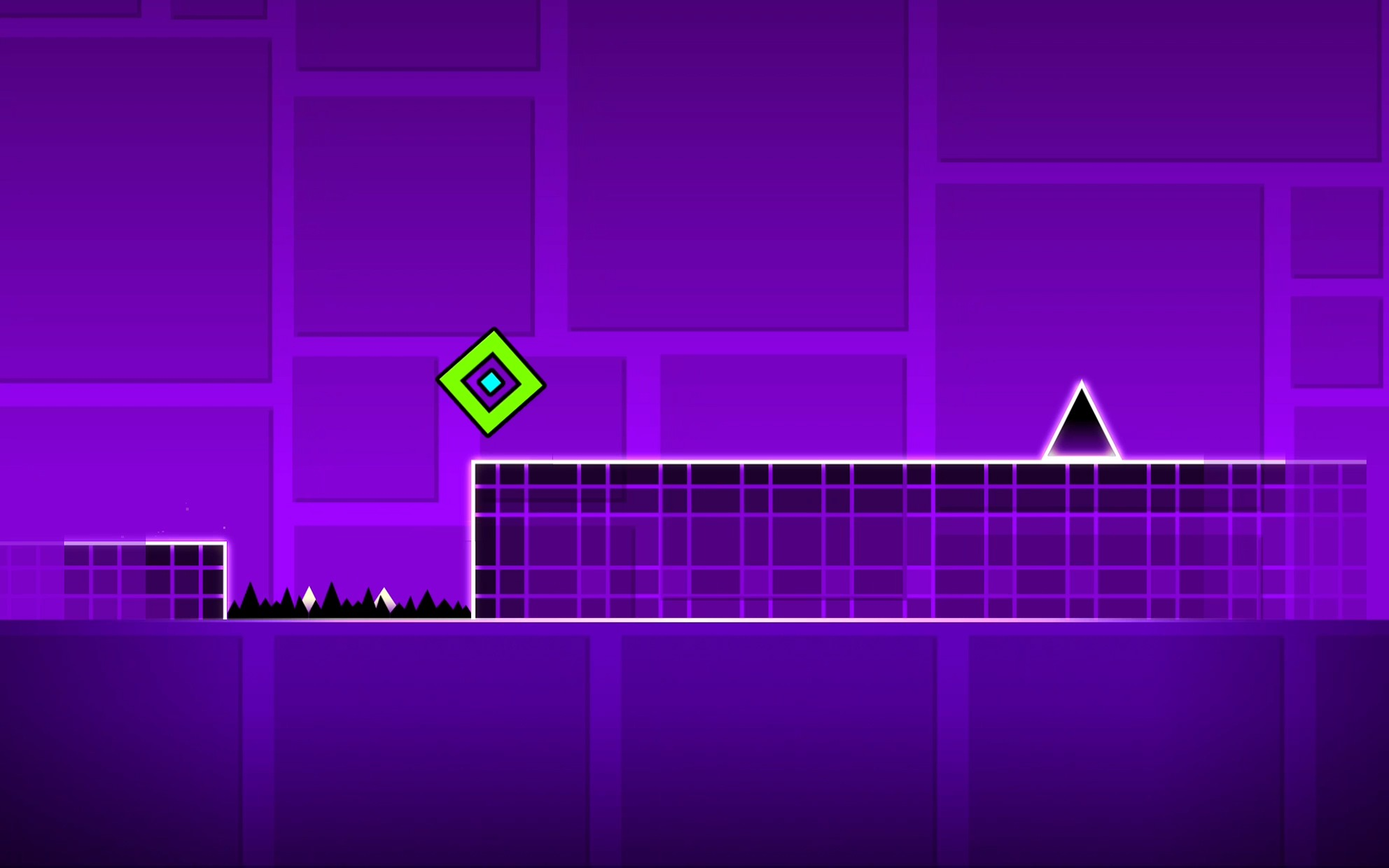Block2: (467, 456, 1389, 613), (3, 542, 225, 619)
Player: (435, 327, 544, 434)
Spike: (1044, 381, 1119, 458)
Spike3: (225, 581, 472, 623)
